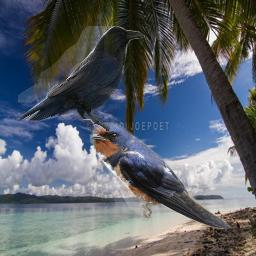Crow: (18, 26, 145, 131)
Swallow: (89, 122, 230, 229)
